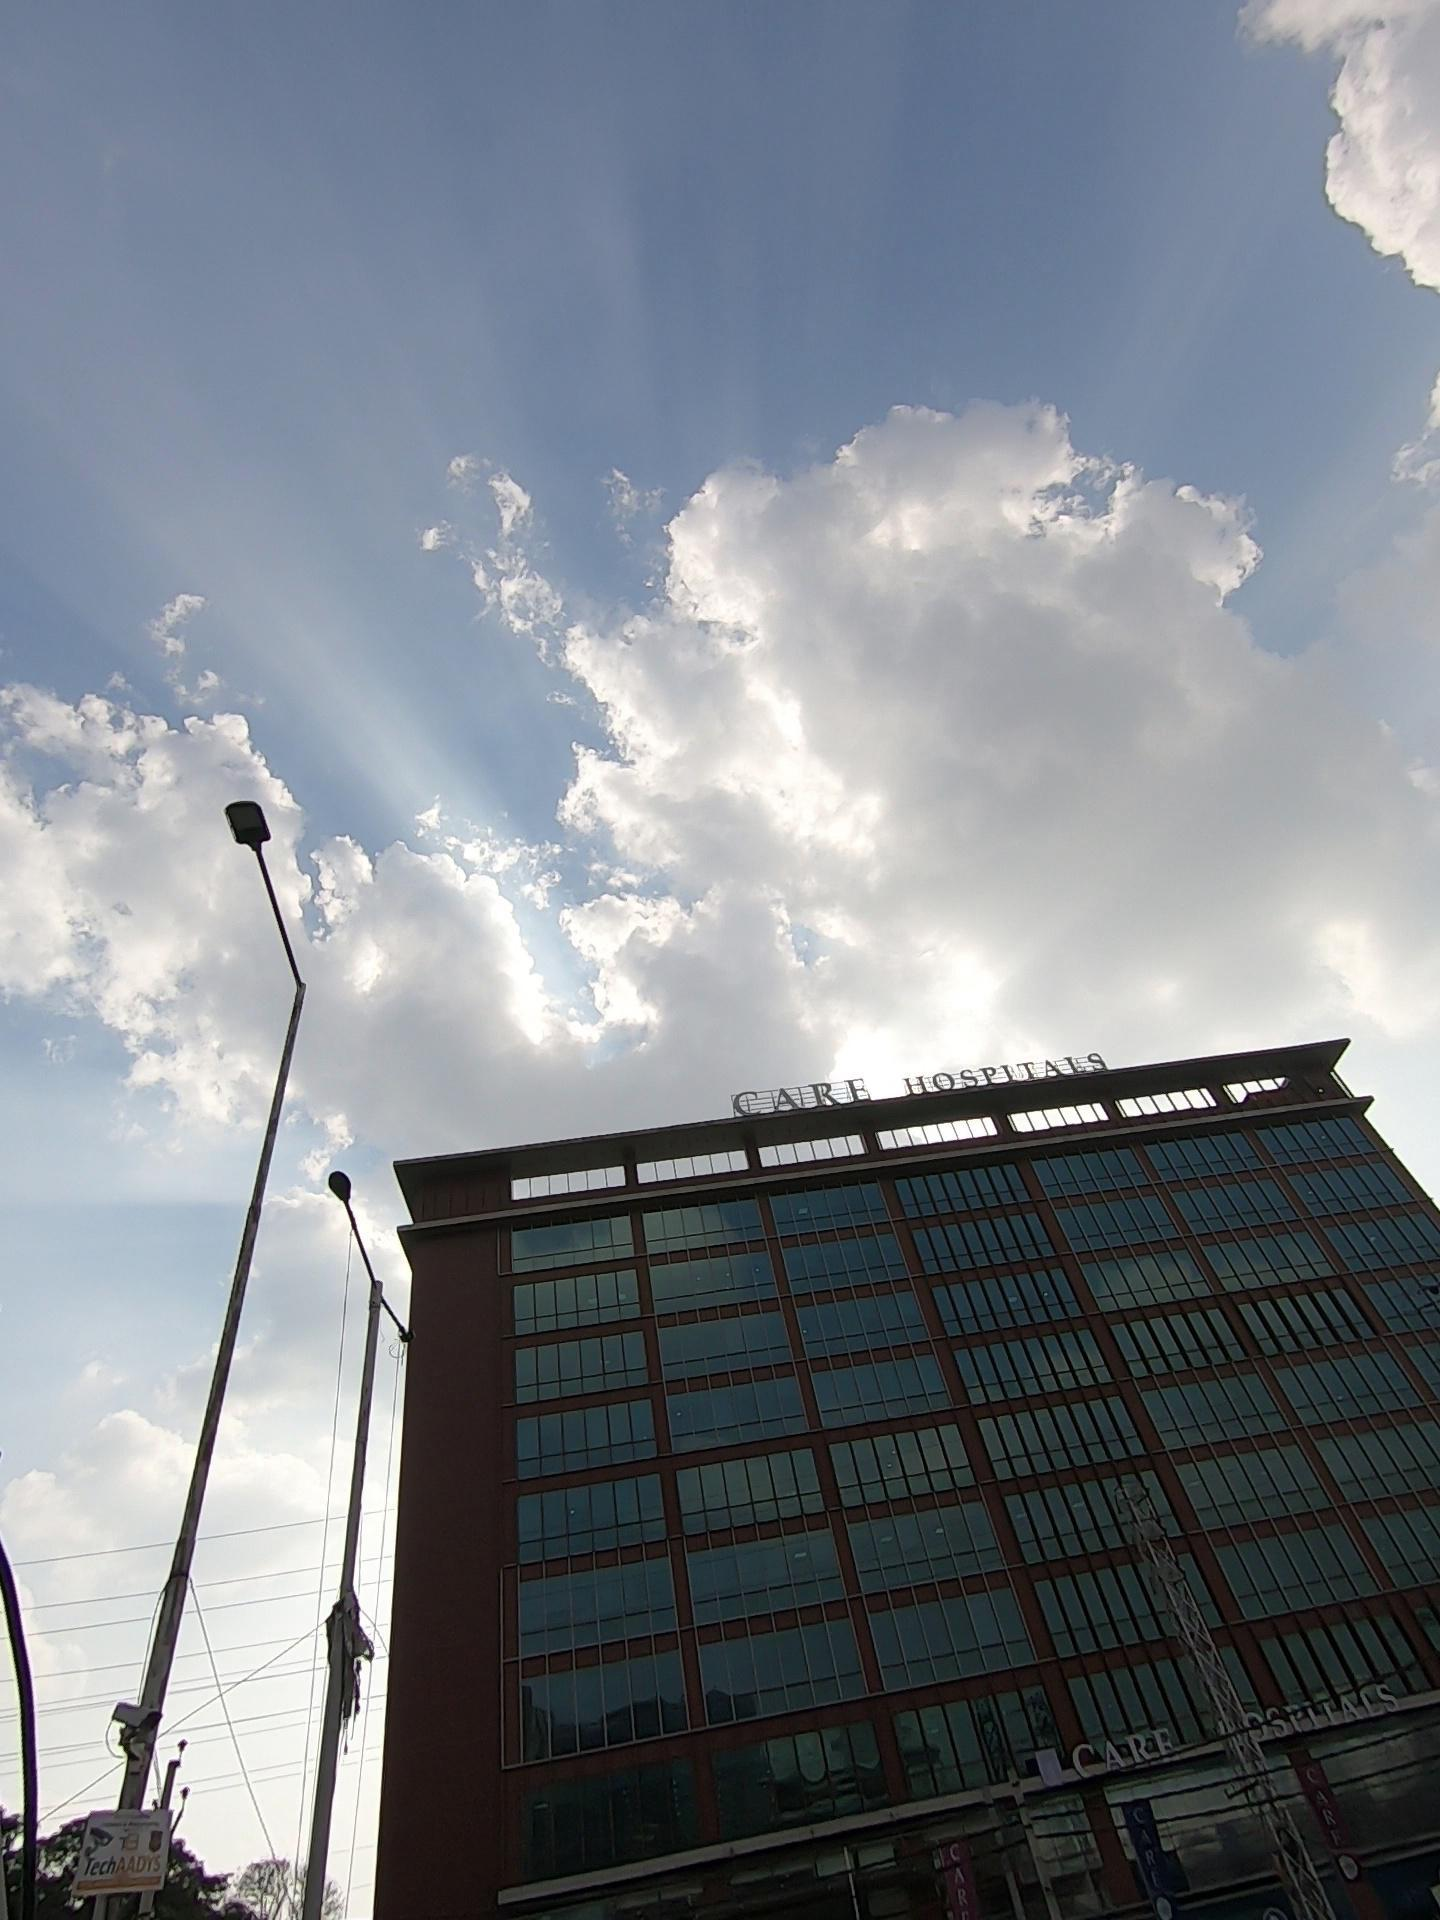off: (200, 766, 368, 1116)
